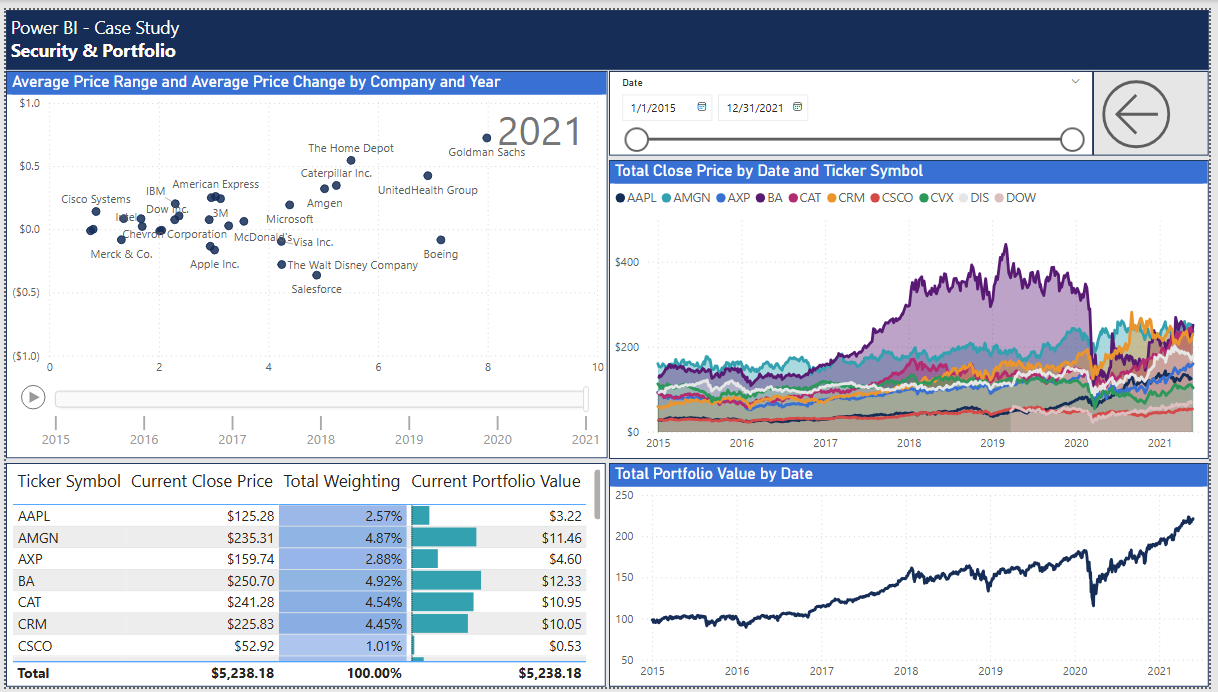

The page's visual inventory and layout, read from the dashboard file:
{"tool":"powerbi","page":{"name":"Security & Portfolio","canvas":[1280,720],"ordinal":1},"visuals":[{"type":"shape","box":[0,0,1280,64],"z":0},{"type":"textbox","box":[0,0,1280,64],"z":1000},{"type":"scatterChart","fields":{"Category":["DimSecurity.Company"],"X":["factActivity.Average Price Range"],"Y":["factActivity.Average Price Change"],"Play":["dimDate.Year"]},"box":[0,65,640,411.7],"z":2000},{"type":"areaChart","fields":{"Category":["dimDate.Date"],"Y":["factActivity.Total Close Price"],"Series":["DimSecurity.Ticker Symbol"]},"box":[641.7,159.2,638.3,318.3],"z":3000},{"type":"tableEx","fields":{"Values":["DimSecurity.Ticker Symbol","factActivity.Current Close Price","factActivity.Total Weighting","factActivity.Current Portfolio Value"]},"box":[0,481.7,638.3,238.3],"z":5000},{"type":"slicer","fields":{"Values":["dimDate.Date"]},"box":[641.7,65,515,90],"z":6000},{"type":"actionButton","box":[1156.7,65,123.3,90],"z":7000},{"type":"lineChart","fields":{"Category":["dimDate.Date"],"Y":["factActivity.Total Portfolio Value"]},"box":[641.7,481.7,638.3,238.3],"z":8000}]}

Visuals, with their boxes in screenshot pixels (x1, y1, x2, y2), scaled from the page's 1280x720 canvas onto the 1218x692 screenshot:
shape: [0, 0, 1217, 62]
textbox: [0, 0, 1217, 62]
scatterChart - DimSecurity.Company x factActivity.Average Price Range: [0, 62, 609, 458]
areaChart - dimDate.Date x factActivity.Total Close Price: [611, 153, 1217, 459]
tableEx - DimSecurity.Ticker Symbol x factActivity.Current Close Price: [0, 463, 607, 691]
slicer - dimDate.Date: [611, 62, 1101, 149]
actionButton: [1101, 62, 1217, 149]
lineChart - dimDate.Date x factActivity.Total Portfolio Value: [611, 463, 1217, 691]
